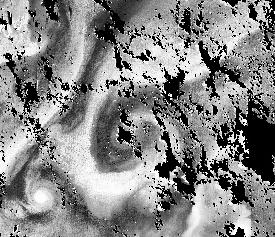CE: (94, 87, 170, 169), (16, 177, 64, 221)
